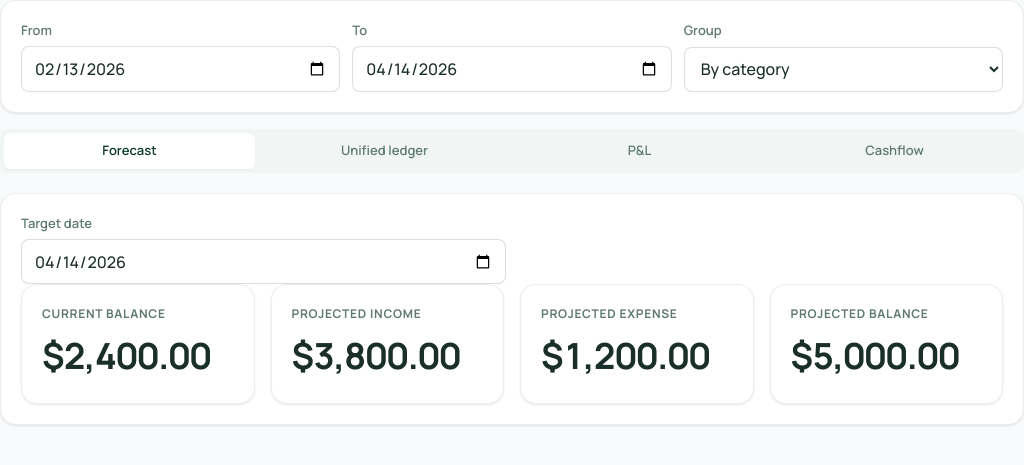
Scenario: ReportsPage › renders forecast and switches to the unified ledger tab
This screenshot has width=1024, height=465.
Expected: the text "Current balance" is shown, x1=42 y1=305 x2=166 y2=322
Expected: the text "$5,000.00" is shown, x1=790 y1=329 x2=982 y2=383
Click the tab "Unified ledger".
click(384, 151)  # box x1=259 y1=133 x2=510 y2=169
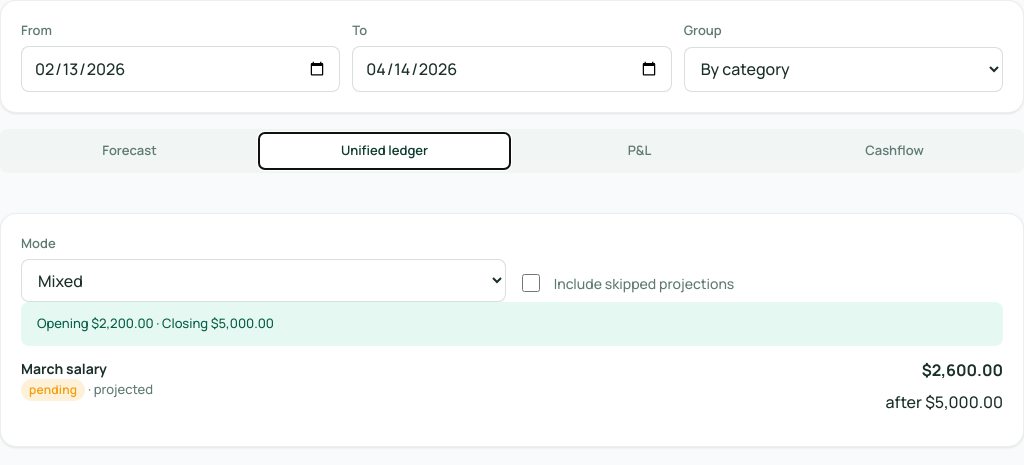
Expected: the text "March salary" is shown, x1=21 y1=359 x2=107 y2=378
Expected: the text "Opening $2,200.00 · Closing $5,000.00" is shown, x1=21 y1=302 x2=1003 y2=346
